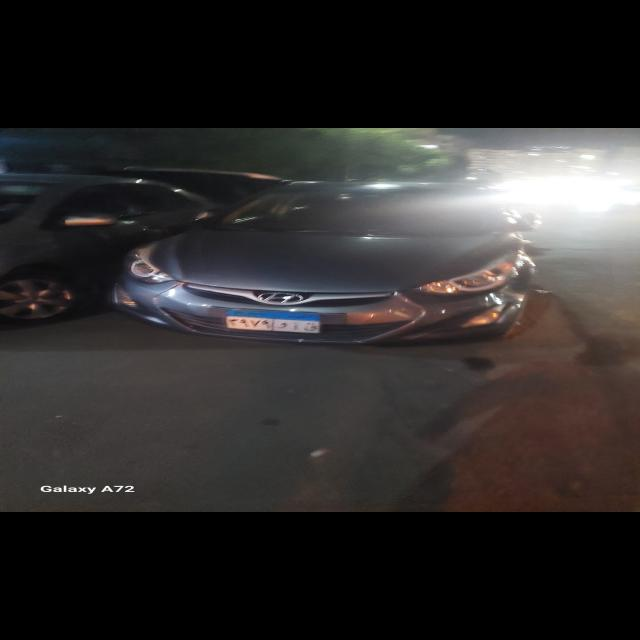car-plate: (228, 310, 318, 333)
